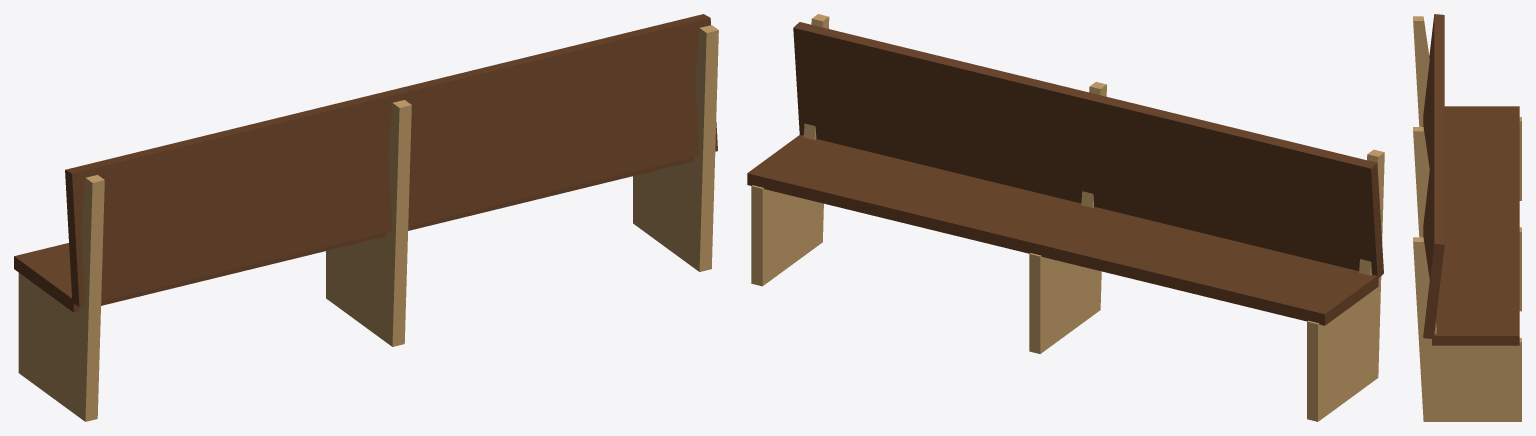
The model's file is justice.court.public_bench.glb.
The picture shows the model from 3 angles, left to right: view 1: azimuth 30°, elevation 25°; view 2: azimuth 150°, elevation 25°; view 3: azimuth 270°, elevation 25°; orthographic projection. The views are drawn at different scales.
Visible parts, largest first — view 1: main__hardwood, main__glulam; view 2: main__hardwood, main__glulam; view 3: main__hardwood, main__glulam.
Part boxes in pixels (left/top/right/bottom): main__hardwood: left=14, top=14, right=717, bottom=312; main__glulam: left=18, top=25, right=718, bottom=421; main__hardwood: left=747, top=22, right=1383, bottom=325; main__glulam: left=751, top=14, right=1384, bottom=421; main__hardwood: left=1423, top=14, right=1519, bottom=345; main__glulam: left=1413, top=16, right=1521, bottom=421.
Size of the model in its own units: 2.6 by 0.9512 by 0.52.
